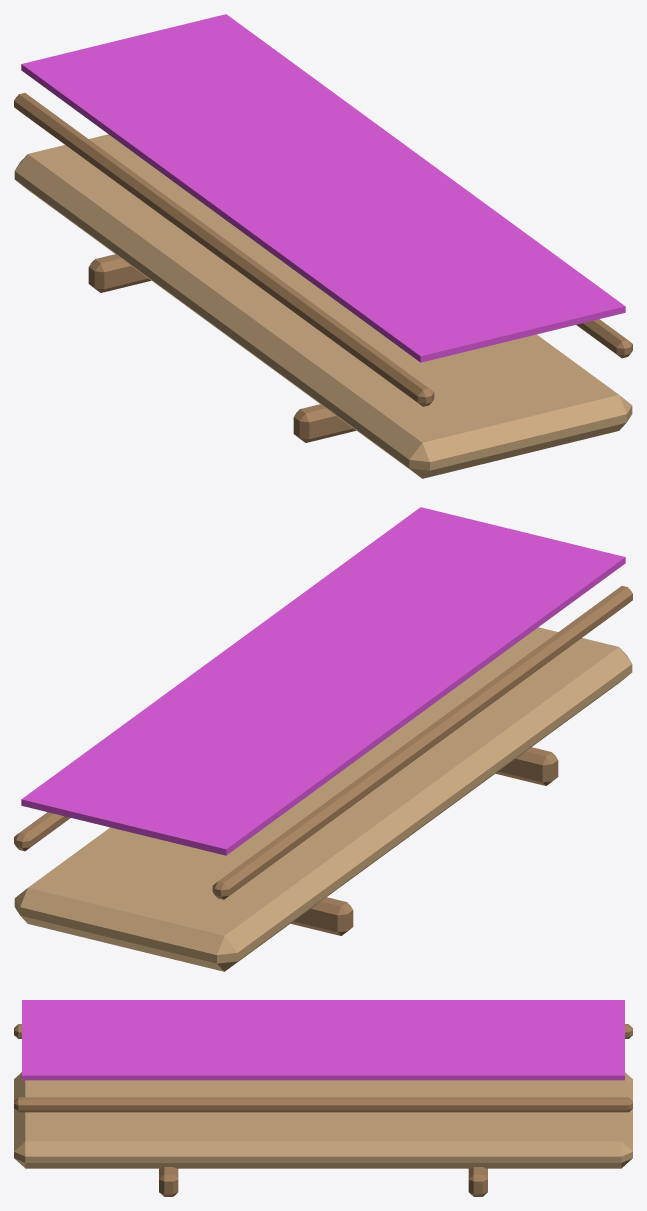
The model's file is stream_footbridge_lod2_v1.glb.
The picture shows the model from 3 angles, top to bottom: view 1: azimuth 30°, elevation 25°; view 2: azimuth 150°, elevation 25°; view 3: azimuth 270°, elevation 25°; orthographic projection. The views are drawn at different scales.
Visible parts, largest first — view 1: NAV_MASK_STREAM_FOOTBRIDGE, LOD2_STREAM_FOOTBRIDGE_Deck, LOD2_STREAM_FOOTBRIDGE_Rail, LOD2_STREAM_FOOTBRIDGE_CrossBeam_02, LOD2_STREAM_FOOTBRIDGE_CrossBeam_01, LOD2_STREAM_FOOTBRIDGE_Rail.001; view 2: NAV_MASK_STREAM_FOOTBRIDGE, LOD2_STREAM_FOOTBRIDGE_Deck, LOD2_STREAM_FOOTBRIDGE_Rail, LOD2_STREAM_FOOTBRIDGE_CrossBeam_01, LOD2_STREAM_FOOTBRIDGE_CrossBeam_02, LOD2_STREAM_FOOTBRIDGE_Rail.001; view 3: NAV_MASK_STREAM_FOOTBRIDGE, LOD2_STREAM_FOOTBRIDGE_Deck, LOD2_STREAM_FOOTBRIDGE_Rail.001, LOD2_STREAM_FOOTBRIDGE_CrossBeam_01, LOD2_STREAM_FOOTBRIDGE_CrossBeam_02.
Part boxes in pixels (bbox=[...]): NAV_MASK_STREAM_FOOTBRIDGE: bbox=[21, 14, 625, 362]; LOD2_STREAM_FOOTBRIDGE_Deck: bbox=[14, 134, 632, 478]; LOD2_STREAM_FOOTBRIDGE_Rail: bbox=[14, 93, 434, 406]; LOD2_STREAM_FOOTBRIDGE_CrossBeam_02: bbox=[88, 254, 151, 292]; LOD2_STREAM_FOOTBRIDGE_CrossBeam_01: bbox=[293, 404, 355, 442]; LOD2_STREAM_FOOTBRIDGE_Rail.001: bbox=[576, 319, 632, 358]; NAV_MASK_STREAM_FOOTBRIDGE: bbox=[21, 507, 625, 855]; LOD2_STREAM_FOOTBRIDGE_Deck: bbox=[14, 627, 632, 971]; LOD2_STREAM_FOOTBRIDGE_Rail: bbox=[212, 586, 632, 899]; LOD2_STREAM_FOOTBRIDGE_CrossBeam_01: bbox=[495, 747, 558, 785]; LOD2_STREAM_FOOTBRIDGE_CrossBeam_02: bbox=[291, 897, 353, 935]; LOD2_STREAM_FOOTBRIDGE_Rail.001: bbox=[14, 812, 70, 851]; NAV_MASK_STREAM_FOOTBRIDGE: bbox=[22, 1000, 624, 1080]; LOD2_STREAM_FOOTBRIDGE_Deck: bbox=[14, 1072, 632, 1168]; LOD2_STREAM_FOOTBRIDGE_Rail.001: bbox=[14, 1097, 632, 1112]; LOD2_STREAM_FOOTBRIDGE_CrossBeam_01: bbox=[159, 1167, 178, 1196]; LOD2_STREAM_FOOTBRIDGE_CrossBeam_02: bbox=[468, 1167, 487, 1196].
Size of what is drawn, in the model's own units: 2.55 by 1.42 by 7.
